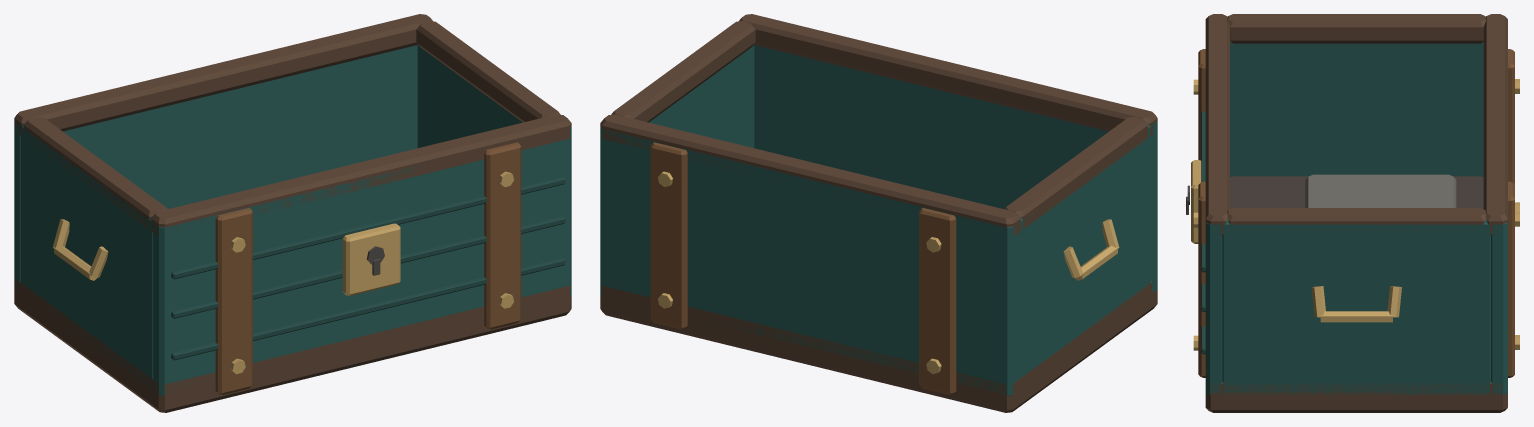
File: sea_trunk.glb
3 views of the same model, side by side, from view 1: azimuth 30°, elevation 25°; view 2: azimuth 150°, elevation 25°; view 3: azimuth 270°, elevation 25° (orthographic).
Visible parts, largest first — view 1: sea_trunk; view 2: sea_trunk; view 3: sea_trunk.
Boxes of the visible parts, x1,y1,x2,y2 form: sea_trunk: (14,14,571,412); sea_trunk: (600,14,1157,412); sea_trunk: (1186,14,1519,412).
Bounding box in the file's own units: 0.8573 × 0.36 × 0.5525.
